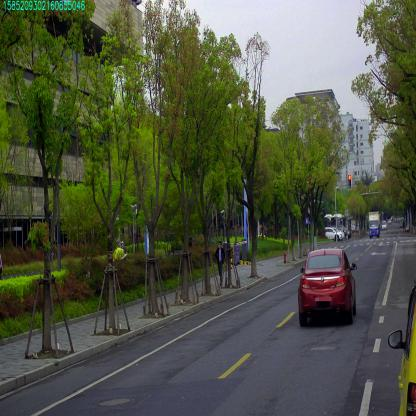traffic-light: (348, 174, 351, 189)
